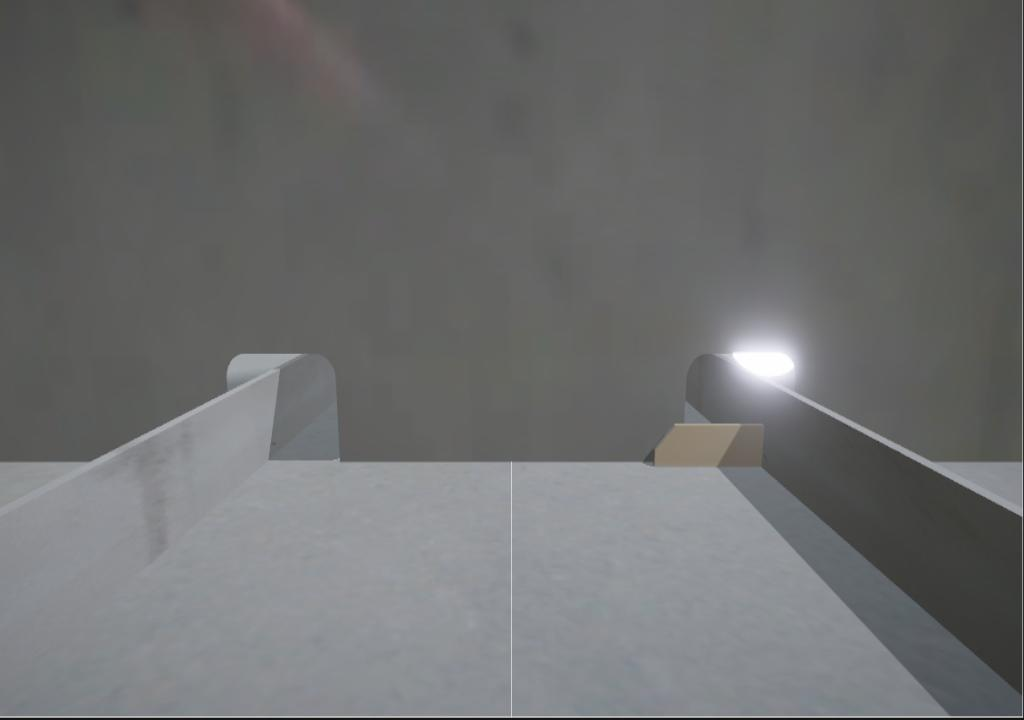fillet_yong_jeop_jang: (333, 456, 654, 467)
plate_CP03: (653, 423, 765, 469)
